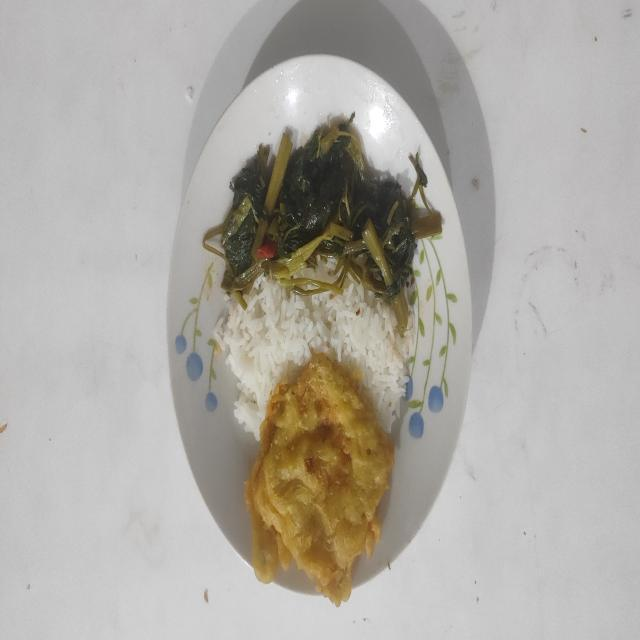nasi_putih: (214, 277, 414, 440)
tumis_kangkung: (204, 113, 442, 336)
